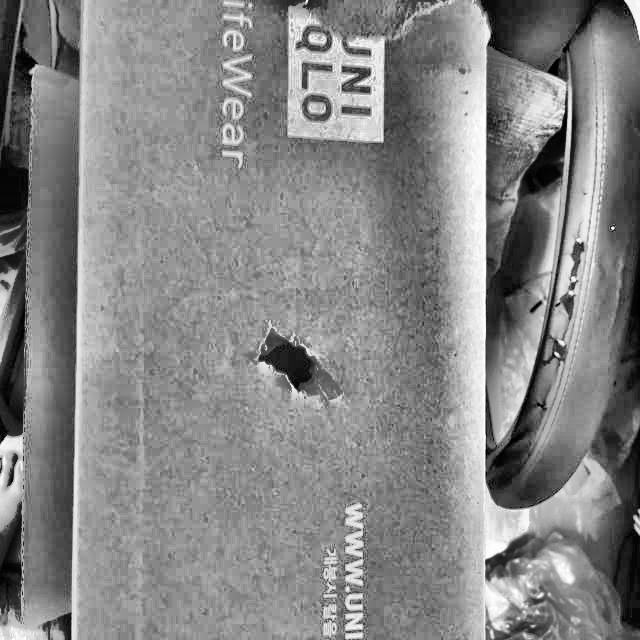box: (38, 0, 508, 640)
hole: (258, 325, 322, 393)
